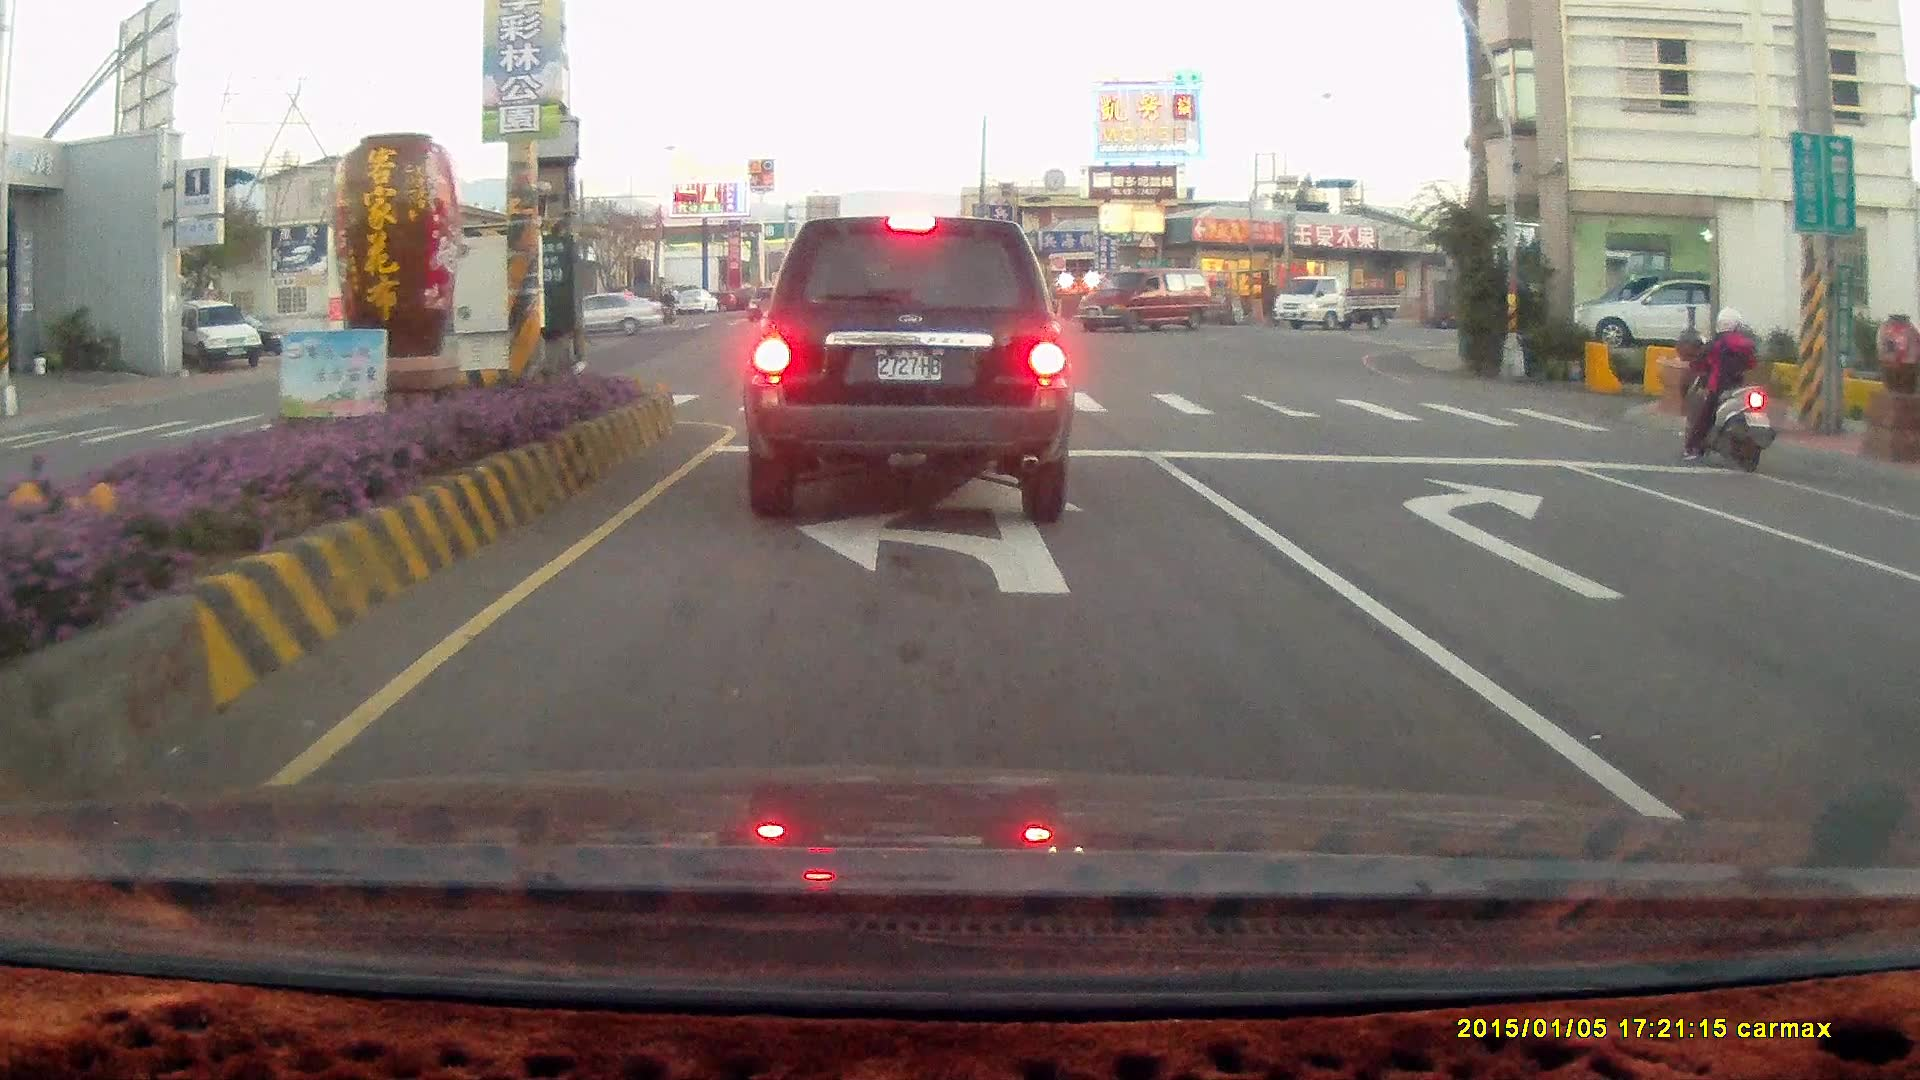rider: (1680, 308, 1776, 475), (656, 289, 677, 326)
vehicle: (741, 214, 1073, 522), (1561, 273, 1758, 350), (1081, 268, 1218, 333), (1581, 281, 1712, 348), (1077, 266, 1213, 331), (1896, 493, 1920, 836), (1274, 274, 1405, 334), (160, 295, 260, 371), (1883, 528, 1920, 690), (544, 291, 663, 338), (543, 291, 662, 337)
